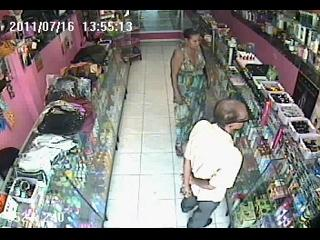Normal: (181, 99, 251, 228), (170, 28, 220, 157)
